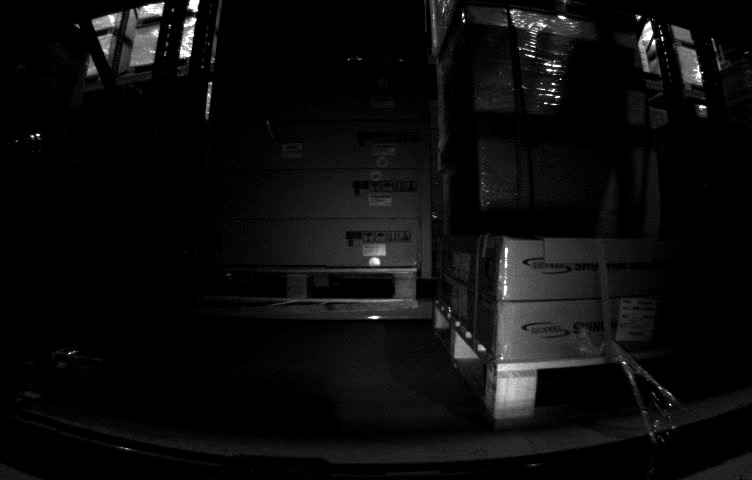True Barcode: (616, 297, 658, 343)
